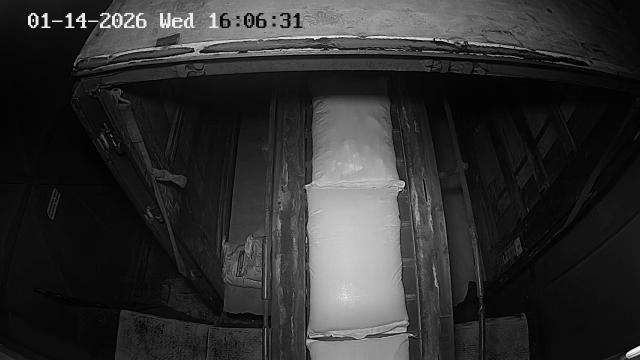bag: (307, 181, 410, 338), (311, 69, 404, 185), (306, 334, 409, 360)
